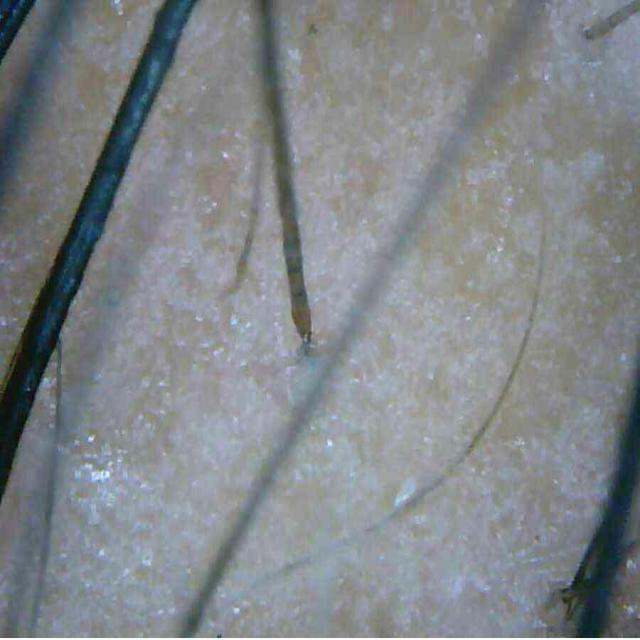d: (394, 479, 416, 508)
ds: (553, 403, 623, 516), (458, 155, 522, 272), (429, 539, 501, 616), (539, 132, 608, 212), (385, 582, 425, 636)
o: (59, 426, 128, 517), (188, 299, 262, 373)
